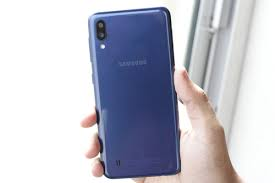samsung: (84, 6, 187, 179)
